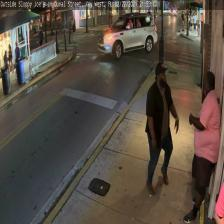person: (183, 70, 220, 222), (145, 62, 178, 194)
